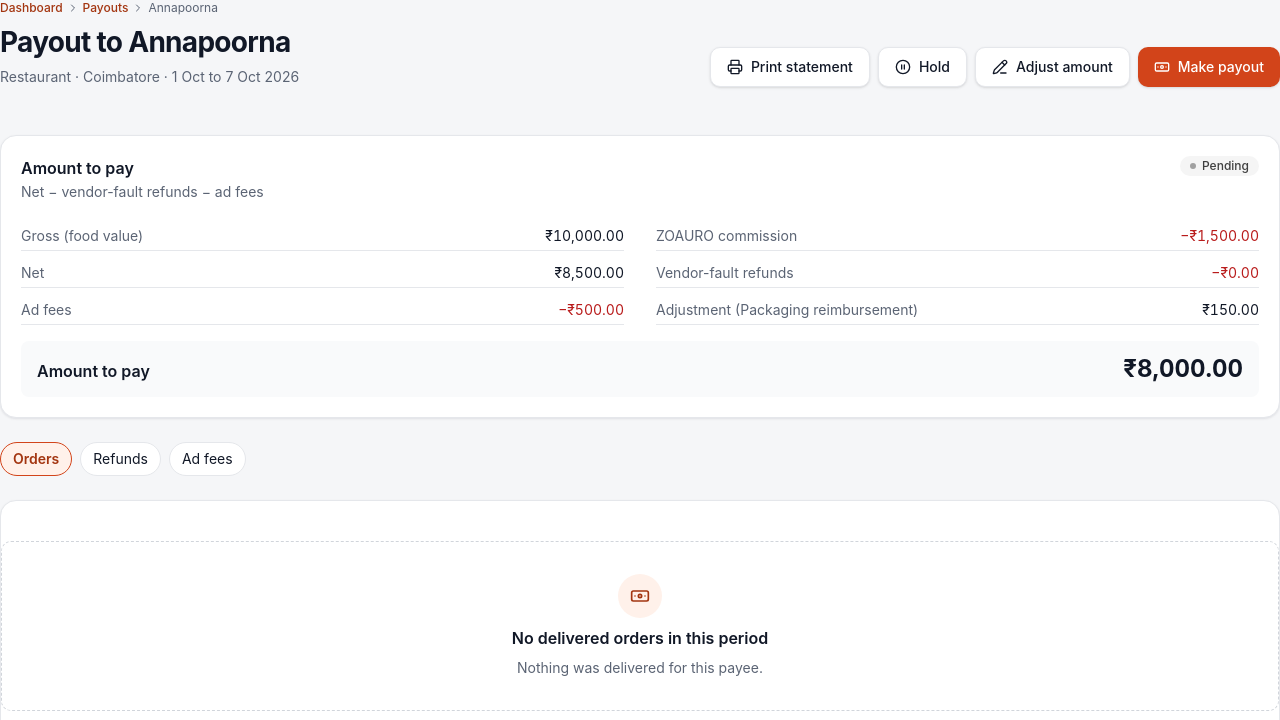
Test: payout detail (D204) › adjust shows the new amount to pay, sends the adjustment, and explains below zero
Expected: the text "Adjustment (Packaging reimbursement)" is shown, [656,300,918,320]
Click the button "Adjust amount" at coordinates (1052, 67), box [975,47,1130,87]
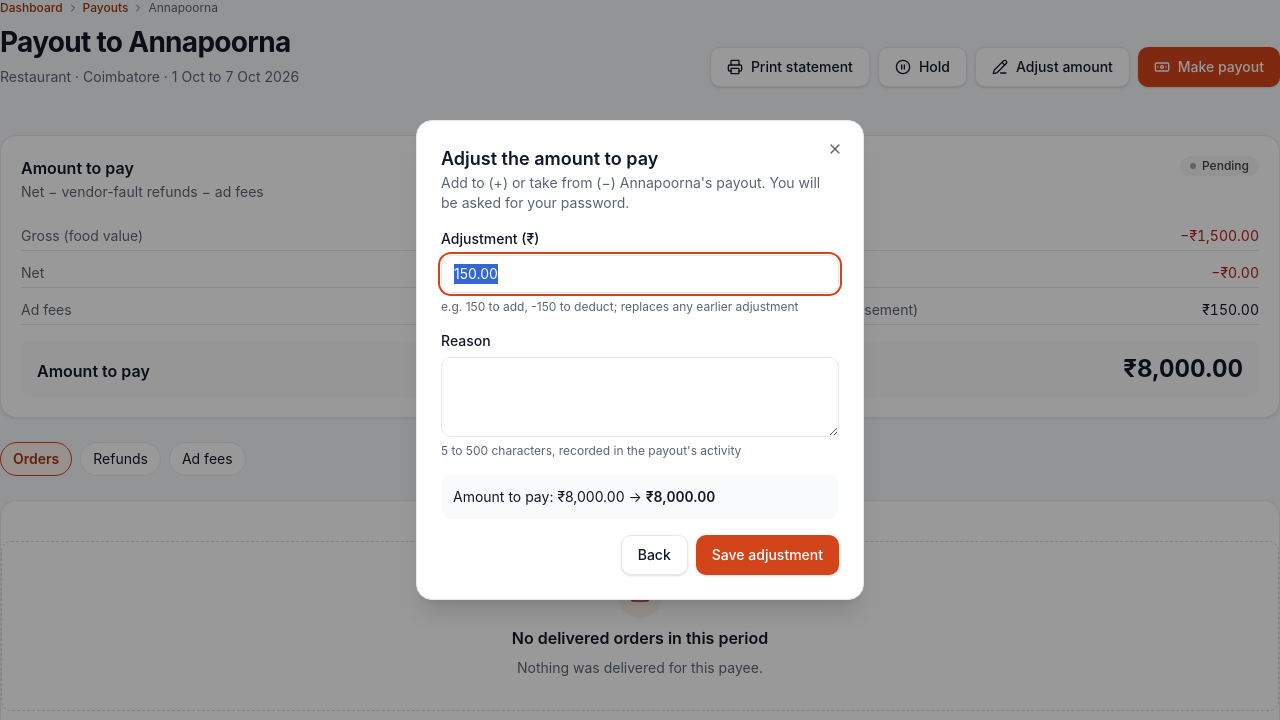
Replace the text in the field labelled "Adjustment (₹)" with "-100" at coordinates (640, 274), box [441,255,839,293]
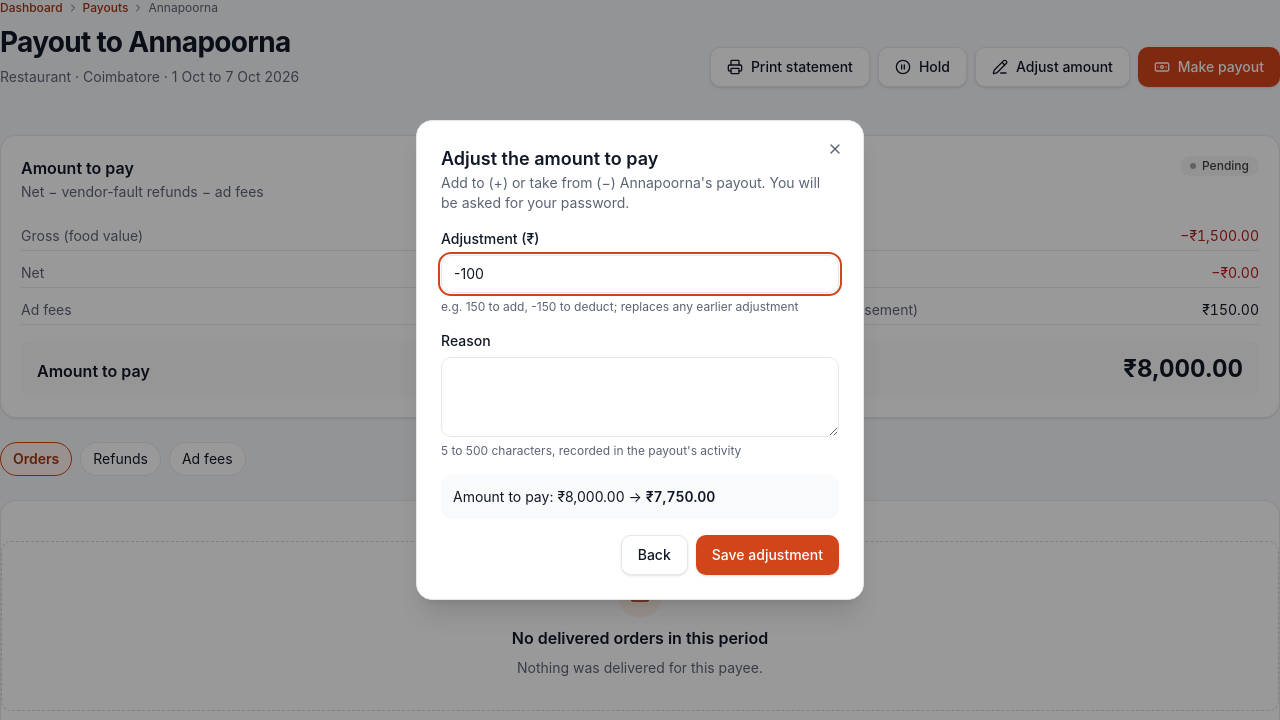
Expected: the text "₹7,750.00" is shown, [646,488,715,505]
Type "Short supply on 3 Oct" into the text box labelled "Reason" at coordinates (640, 397), box [441,357,839,437]
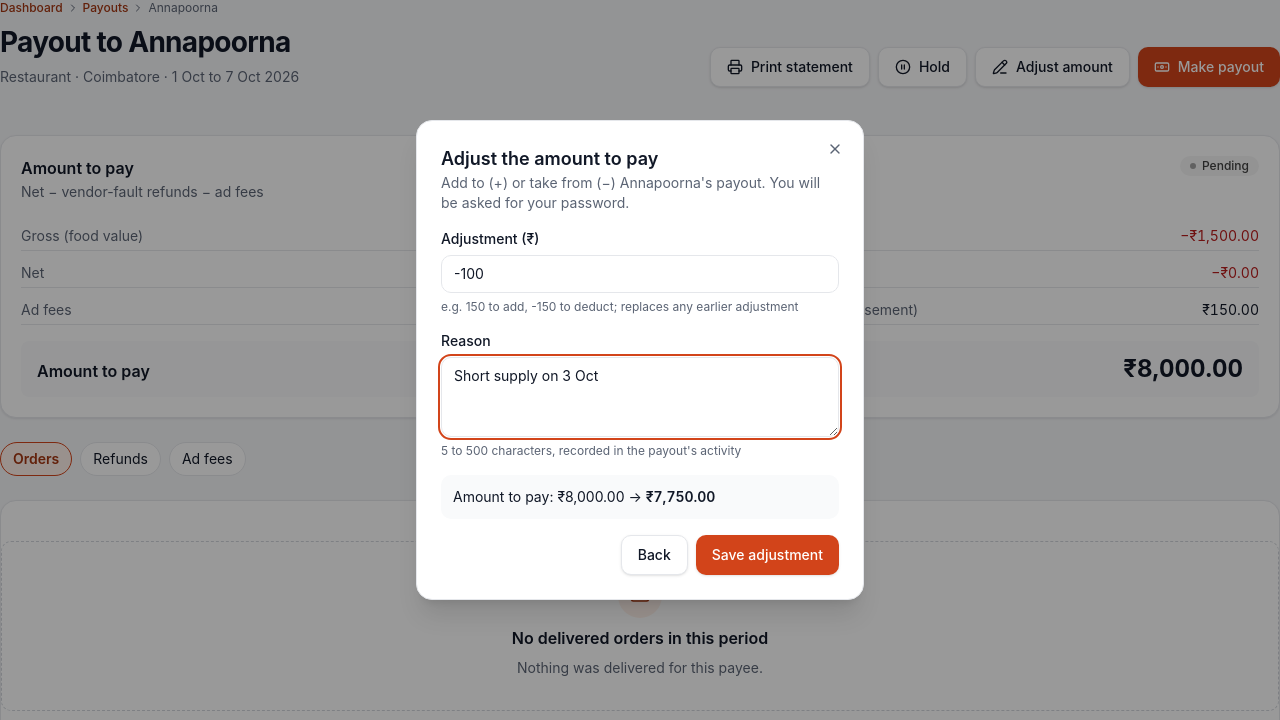
Click the button "Save adjustment" at coordinates (767, 555), box [696,535,839,575]
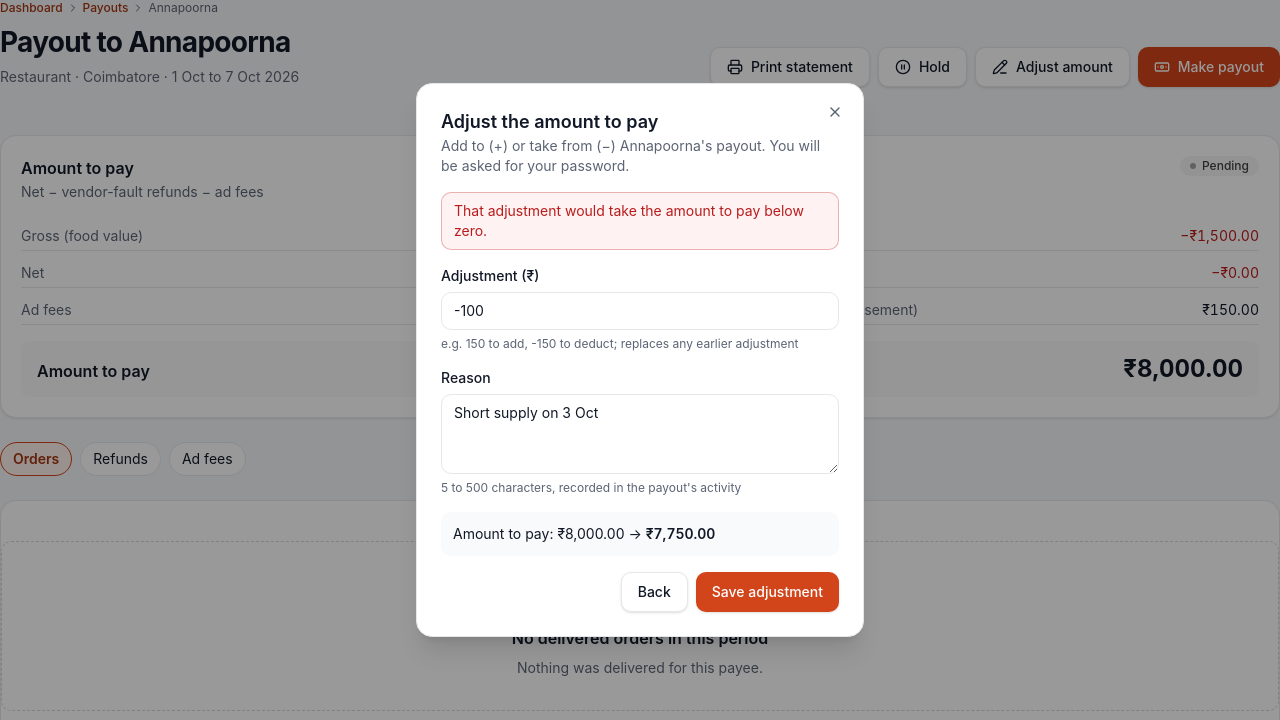
Expected: the text "That adjustment would take the amount to pay below zero." is shown, [441,192,839,250]
